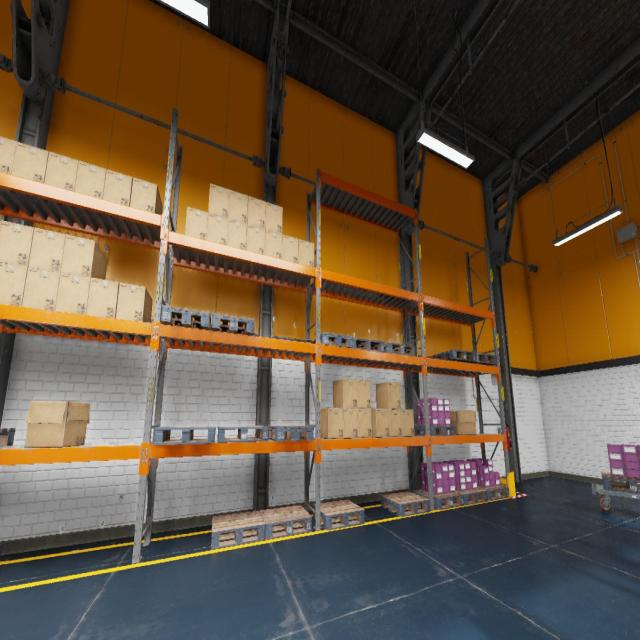box: (24, 401, 90, 446), (61, 234, 107, 279), (28, 228, 66, 272), (22, 267, 60, 310), (0, 220, 34, 267), (11, 142, 49, 182), (116, 282, 152, 322), (56, 273, 90, 314), (86, 277, 119, 318), (44, 152, 78, 191), (0, 262, 28, 306), (130, 177, 162, 215), (74, 160, 106, 198), (103, 169, 133, 206), (185, 207, 208, 240), (208, 183, 229, 218), (206, 212, 228, 245), (333, 378, 357, 408), (321, 407, 343, 439), (376, 382, 401, 409), (228, 190, 248, 223), (0, 136, 17, 174), (226, 218, 246, 250), (247, 196, 266, 229), (450, 411, 476, 434), (265, 202, 283, 234), (246, 224, 265, 254), (372, 408, 389, 437), (265, 230, 282, 258), (282, 234, 298, 263), (343, 408, 358, 438), (298, 238, 314, 266), (358, 408, 372, 438), (357, 379, 371, 408), (389, 409, 402, 437), (402, 409, 414, 436)
pallets: (211, 511, 265, 549), (260, 505, 312, 539), (313, 500, 365, 530), (381, 491, 430, 517), (161, 305, 211, 330), (153, 426, 216, 445), (416, 490, 464, 510), (212, 313, 254, 335), (217, 426, 269, 443), (601, 473, 640, 494), (268, 425, 314, 441), (311, 332, 353, 348), (454, 488, 488, 505), (432, 349, 476, 362), (478, 485, 509, 501), (458, 353, 496, 365), (353, 338, 384, 352), (414, 426, 457, 436), (384, 343, 416, 356), (0, 427, 15, 445), (0, 543, 2, 559)
